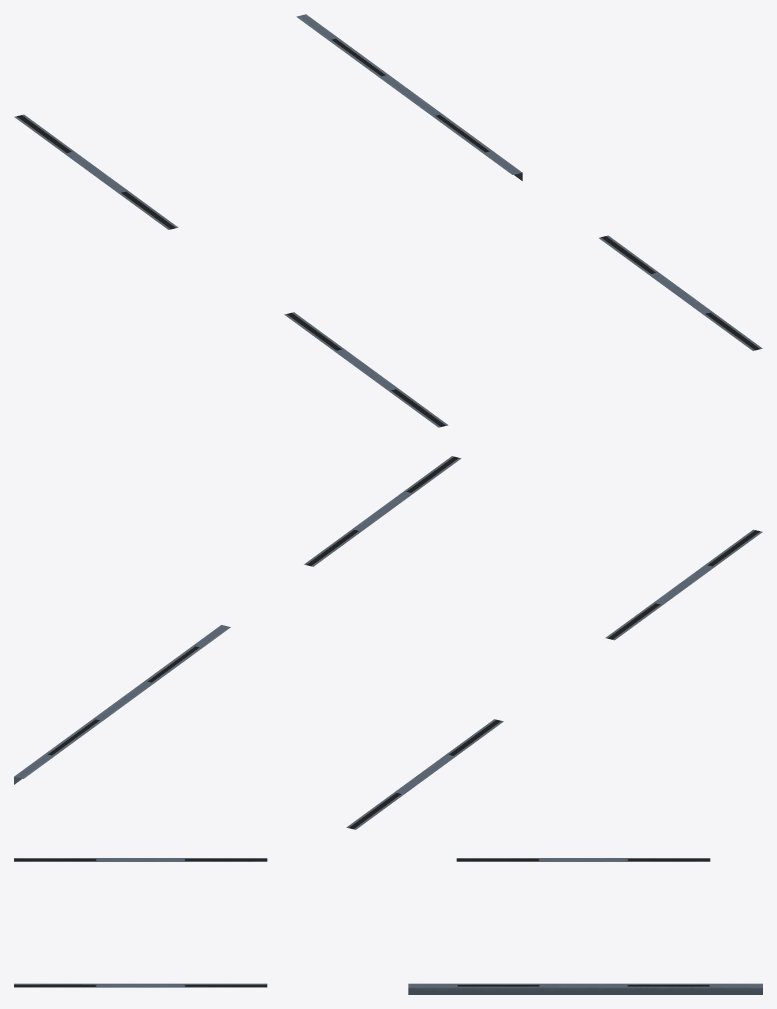
File: ElevatorDoorFloors.fbx
3 views of the same model, one above another, from view 1: azimuth 30°, elevation 25°; view 2: azimuth 150°, elevation 25°; view 3: azimuth 270°, elevation 25° (orthographic). The views are drawn at different scales.
Visible parts, largest first — view 1: polySurface58, polySurface68, polySurface69, polySurface67; view 2: polySurface58, polySurface68, polySurface67, polySurface69; view 3: polySurface58, polySurface67, polySurface69, polySurface68.
Part boxes in pixels (x1,y1,x2,y2): polySurface58: (296, 14, 522, 180); polySurface68: (284, 312, 448, 427); polySurface69: (14, 114, 178, 229); polySurface67: (599, 235, 762, 350); polySurface58: (14, 625, 230, 784); polySurface68: (605, 529, 762, 640); polySurface67: (304, 456, 461, 566); polySurface69: (346, 719, 503, 829); polySurface58: (408, 983, 762, 994); polySurface67: (14, 983, 267, 987); polySurface69: (456, 858, 710, 861); polySurface68: (14, 858, 267, 861).
Size of the model in its own units: 741 by 19.16 by 1808.
1 material, 1 textured.
